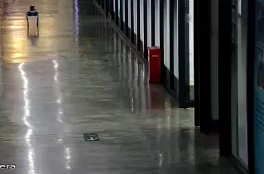robot dog: (31, 18, 49, 48)
